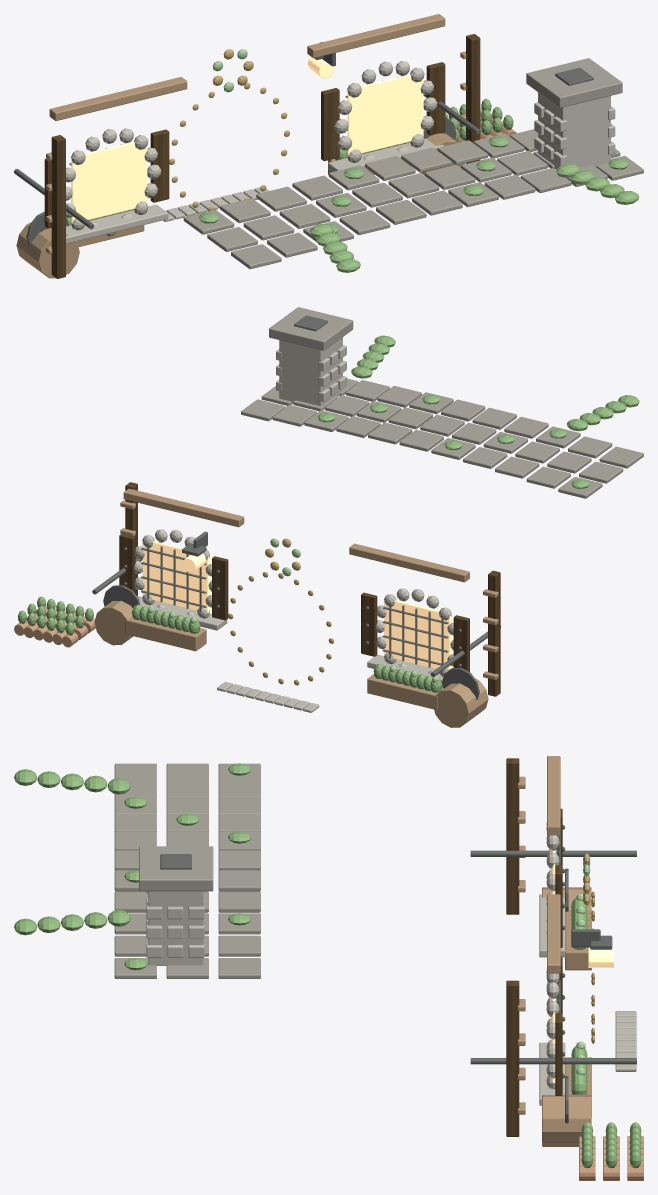
Rendered from shire_garden_cottage_craftwork.glb.
3 renders of one model, top to bottom at view 1: azimuth 30°, elevation 25°; view 2: azimuth 150°, elevation 25°; view 3: azimuth 270°, elevation 25°, orthographic. The views are drawn at different scales.
Parts seen in each view (by area): view 1: Art_roof_slate, Art_rounded_fieldstone, Art_amber_glass, Art_oak_grain_original, Art_weathered_wood, Art_ivy_and_herbs, Art_forged_iron, Art_warm_brass; view 2: Art_roof_slate, Art_weathered_wood, Art_rounded_fieldstone, Art_ivy_and_herbs, Art_amber_glass, Art_oak_grain_original, Art_forged_iron, Art_terracotta_pots, Art_warm_brass; view 3: Art_roof_slate, Art_rounded_fieldstone, Art_ivy_and_herbs, Art_weathered_wood, Art_oak_grain_original, Art_forged_iron, Art_terracotta_pots, Art_amber_glass.
Part boxes in pixels (box(x1,y1,x2,y2)): Art_roof_slate: box(183, 58, 643, 269); Art_rounded_fieldstone: box(66, 61, 615, 243); Art_amber_glass: box(71, 57, 423, 222); Art_oak_grain_original: box(44, 34, 480, 278); Art_weathered_wood: box(16, 14, 466, 278); Art_ivy_and_herbs: box(67, 99, 639, 272); Art_forged_iron: box(14, 42, 593, 246); Art_warm_brass: box(169, 49, 289, 210); Art_roof_slate: box(241, 307, 643, 498); Art_weathered_wood: box(94, 488, 498, 727); Art_rounded_fieldstone: box(134, 337, 453, 712); Art_ivy_and_herbs: box(18, 335, 639, 692); Art_amber_glass: box(142, 541, 450, 669); Art_oak_grain_original: box(119, 482, 500, 696); Art_forged_iron: box(92, 315, 500, 699); Art_terracotta_pots: box(14, 606, 95, 647); Art_warm_brass: box(228, 538, 333, 685); Art_roof_slate: box(114, 763, 260, 978); Art_rounded_fieldstone: box(146, 822, 636, 1105); Art_ivy_and_herbs: box(14, 763, 641, 1168); Art_weathered_wood: box(517, 756, 591, 1146); Art_oak_grain_original: box(506, 758, 562, 1136); Art_forged_iron: box(160, 825, 636, 1123); Art_terracotta_pots: box(579, 1136, 643, 1180); Art_amber_glass: box(552, 850, 613, 1082).
Bounding box in the file's own units: 8.64 × 4.02 × 8.62.
Materials: 10 (1 with a texture image).
